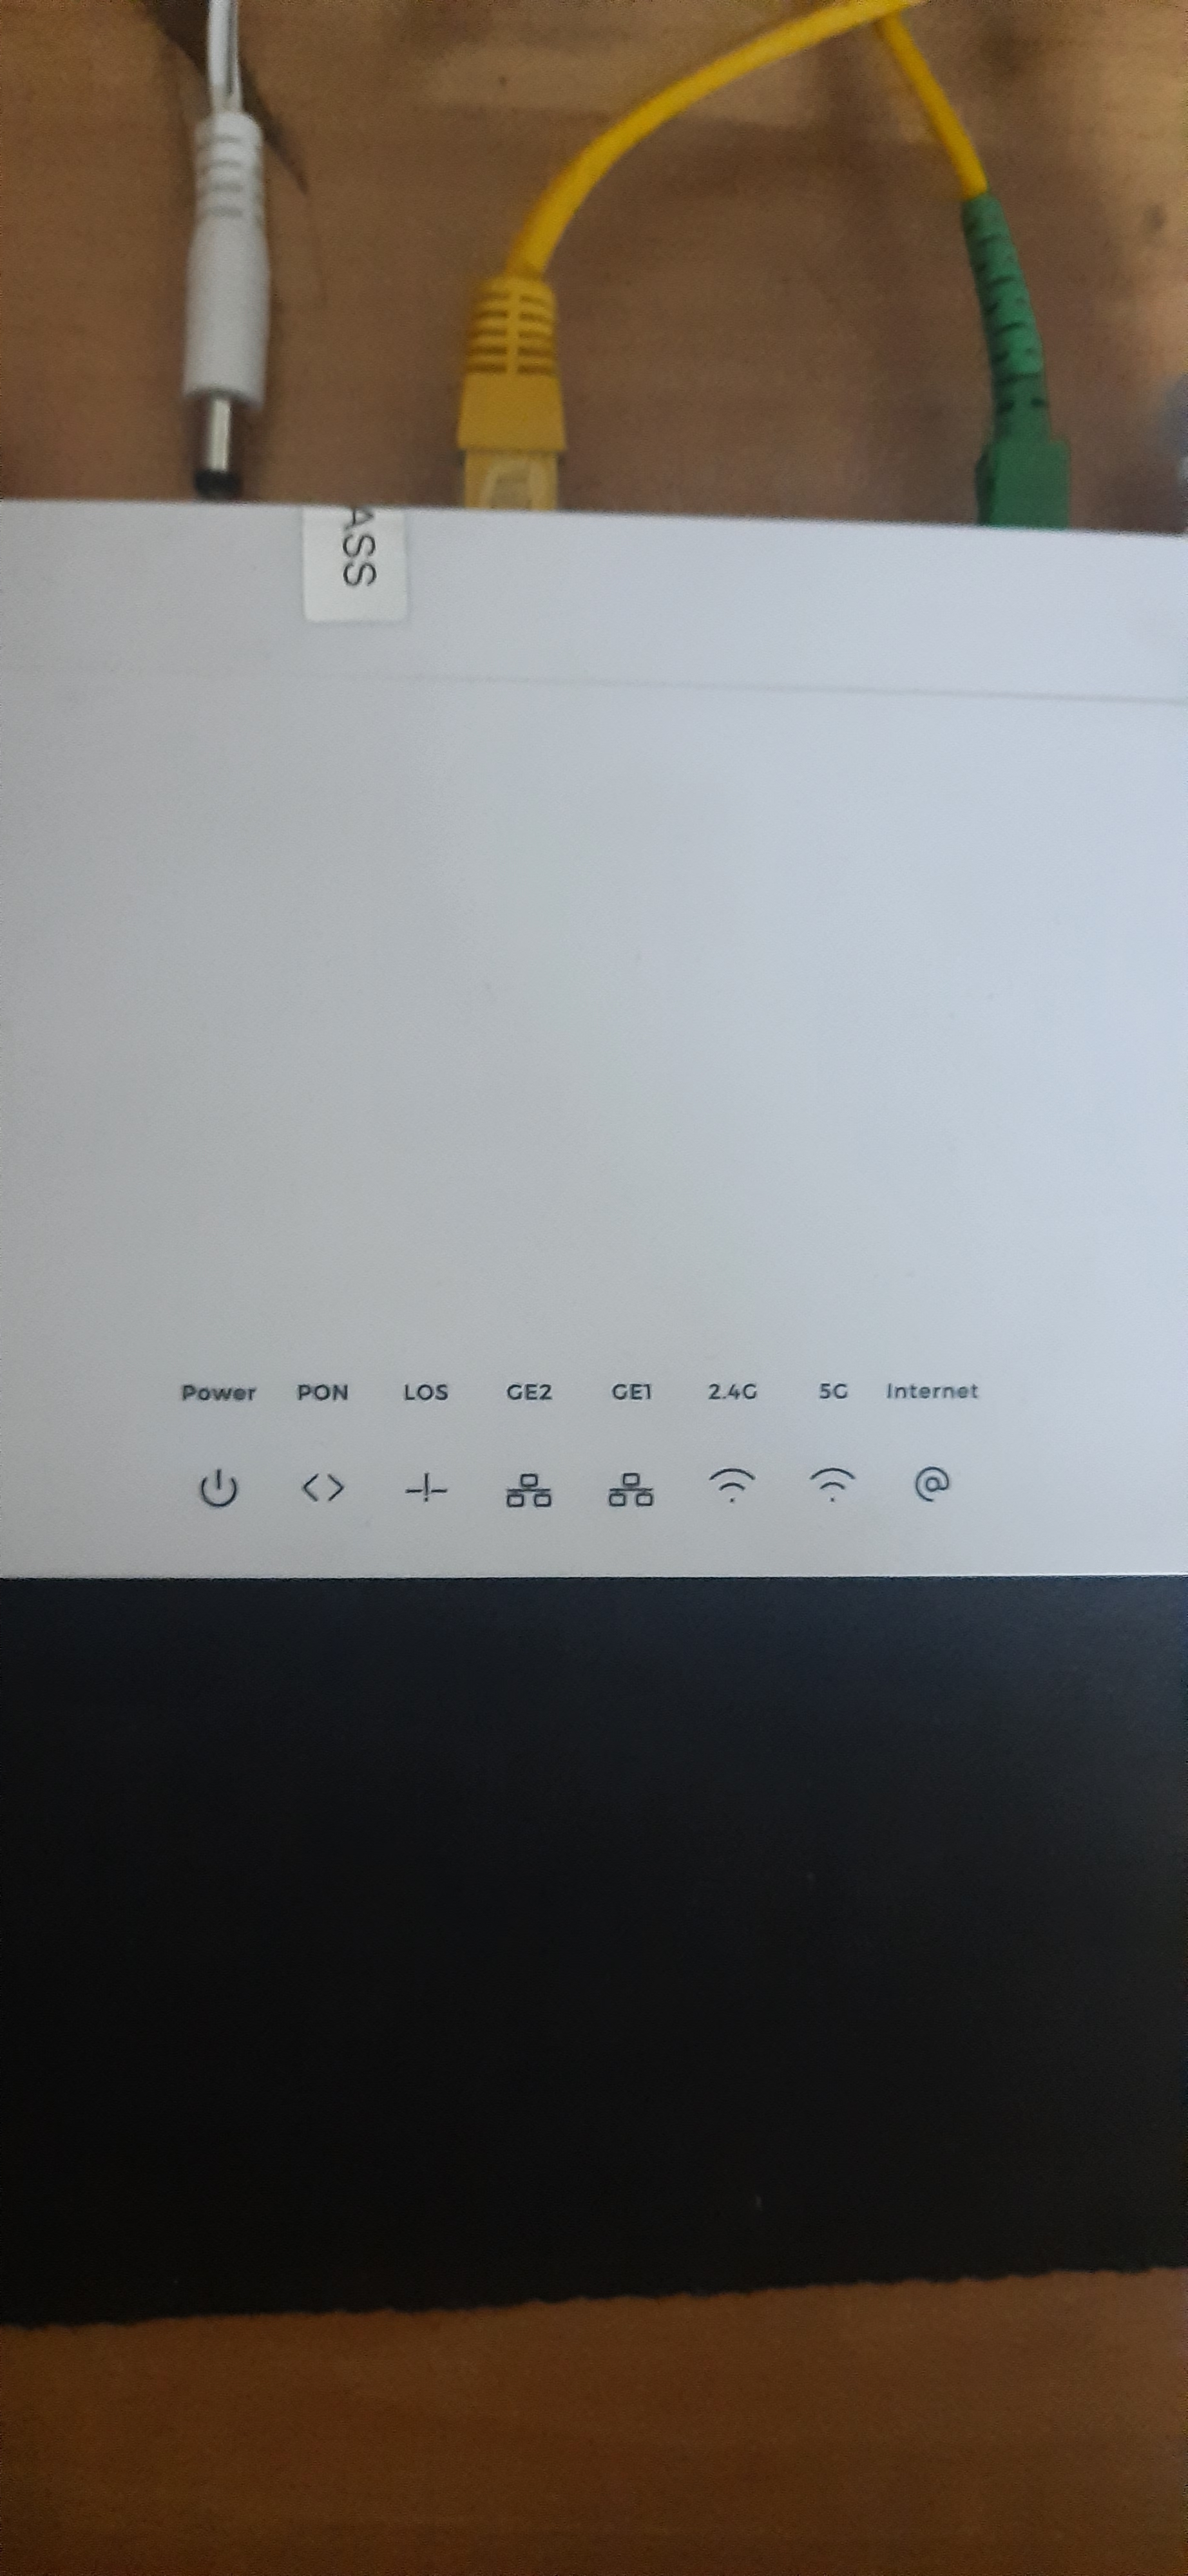WhiteWireIssue: (123, 1280, 1050, 1608)
